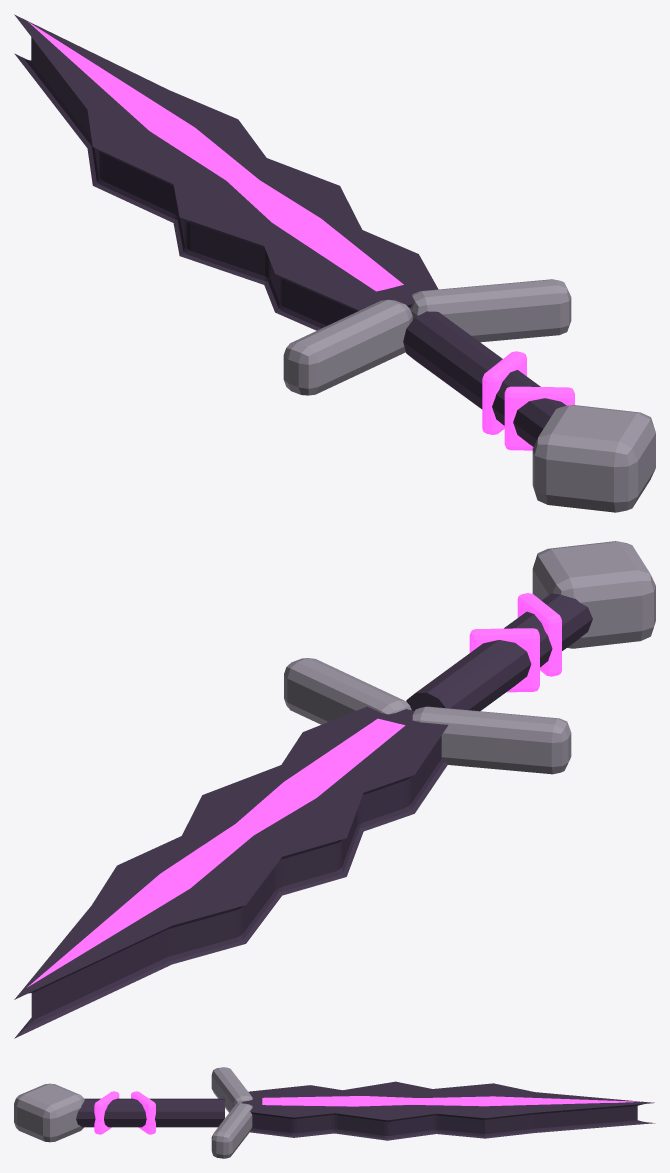
Rendered from PurpleRiftSword.fbx.
3 views of the same model, one above another, from view 1: azimuth 30°, elevation 25°; view 2: azimuth 150°, elevation 25°; view 3: azimuth 270°, elevation 25° (orthographic). The views are drawn at different scales.
Parts seen in each view (by area): view 1: PurpleRiftSword; view 2: PurpleRiftSword; view 3: PurpleRiftSword.
Boxes of the visible parts, x1,y1,x2,y2 form: PurpleRiftSword: (14,14,655,512); PurpleRiftSword: (14,541,655,1038); PurpleRiftSword: (14,1067,655,1158).
Bounding box in the file's own units: 0.4153 × 0.1 × 1.58.
